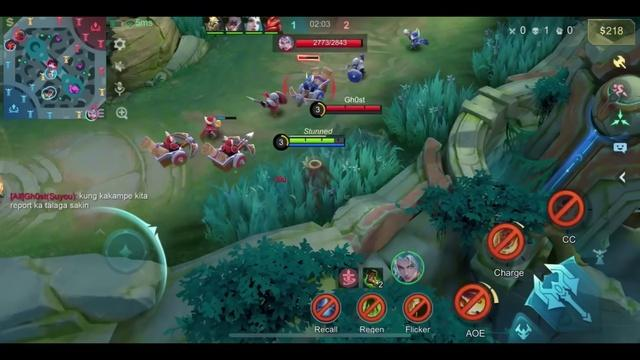Adc_Aliado: (4, 40, 17, 51)
Arbusto: (201, 129, 403, 242), (472, 17, 582, 86), (382, 72, 473, 150)
EXP_Lane: (95, 109, 107, 120)
Esbirro_Aliado: (202, 132, 254, 170), (146, 131, 197, 165), (251, 91, 287, 114), (201, 116, 221, 138)
Esbirro_Enemigo: (290, 74, 330, 105), (403, 28, 428, 49), (347, 54, 364, 82)
Exp_Aliado: (85, 110, 94, 122)
Exp_Enemigo: (88, 107, 99, 117)
Gold_Lane: (4, 15, 16, 30)
HP_Enemigo: (324, 106, 382, 111)
HP_Heroe_Principal: (288, 136, 346, 143)
Jungla_Aliado: (45, 85, 57, 97)
Jungla_Enemigo: (12, 28, 26, 41)
Mana: (289, 143, 347, 147)
Mid_Aliado: (44, 68, 56, 80)
Mid_Enemigo: (47, 58, 59, 70)
Minimapa: (3, 15, 108, 120)
Roamer_Aliado: (42, 89, 52, 102)
Tigreal: (299, 156, 335, 204)
Tortuga_mapa: (67, 83, 80, 94)
